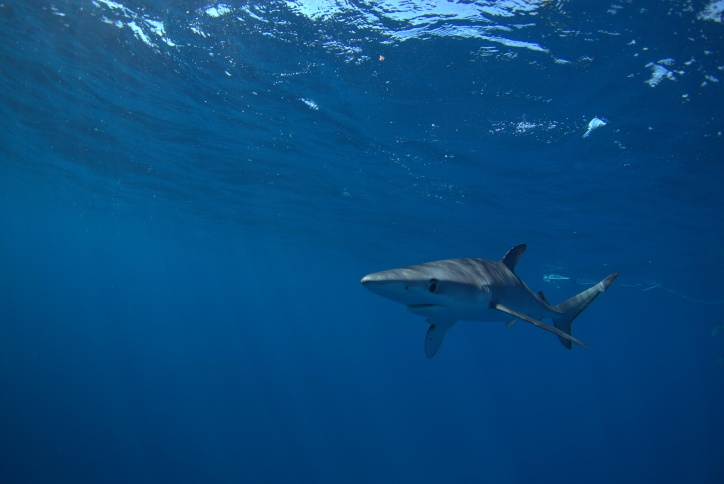Azul: (335, 227, 666, 375)
